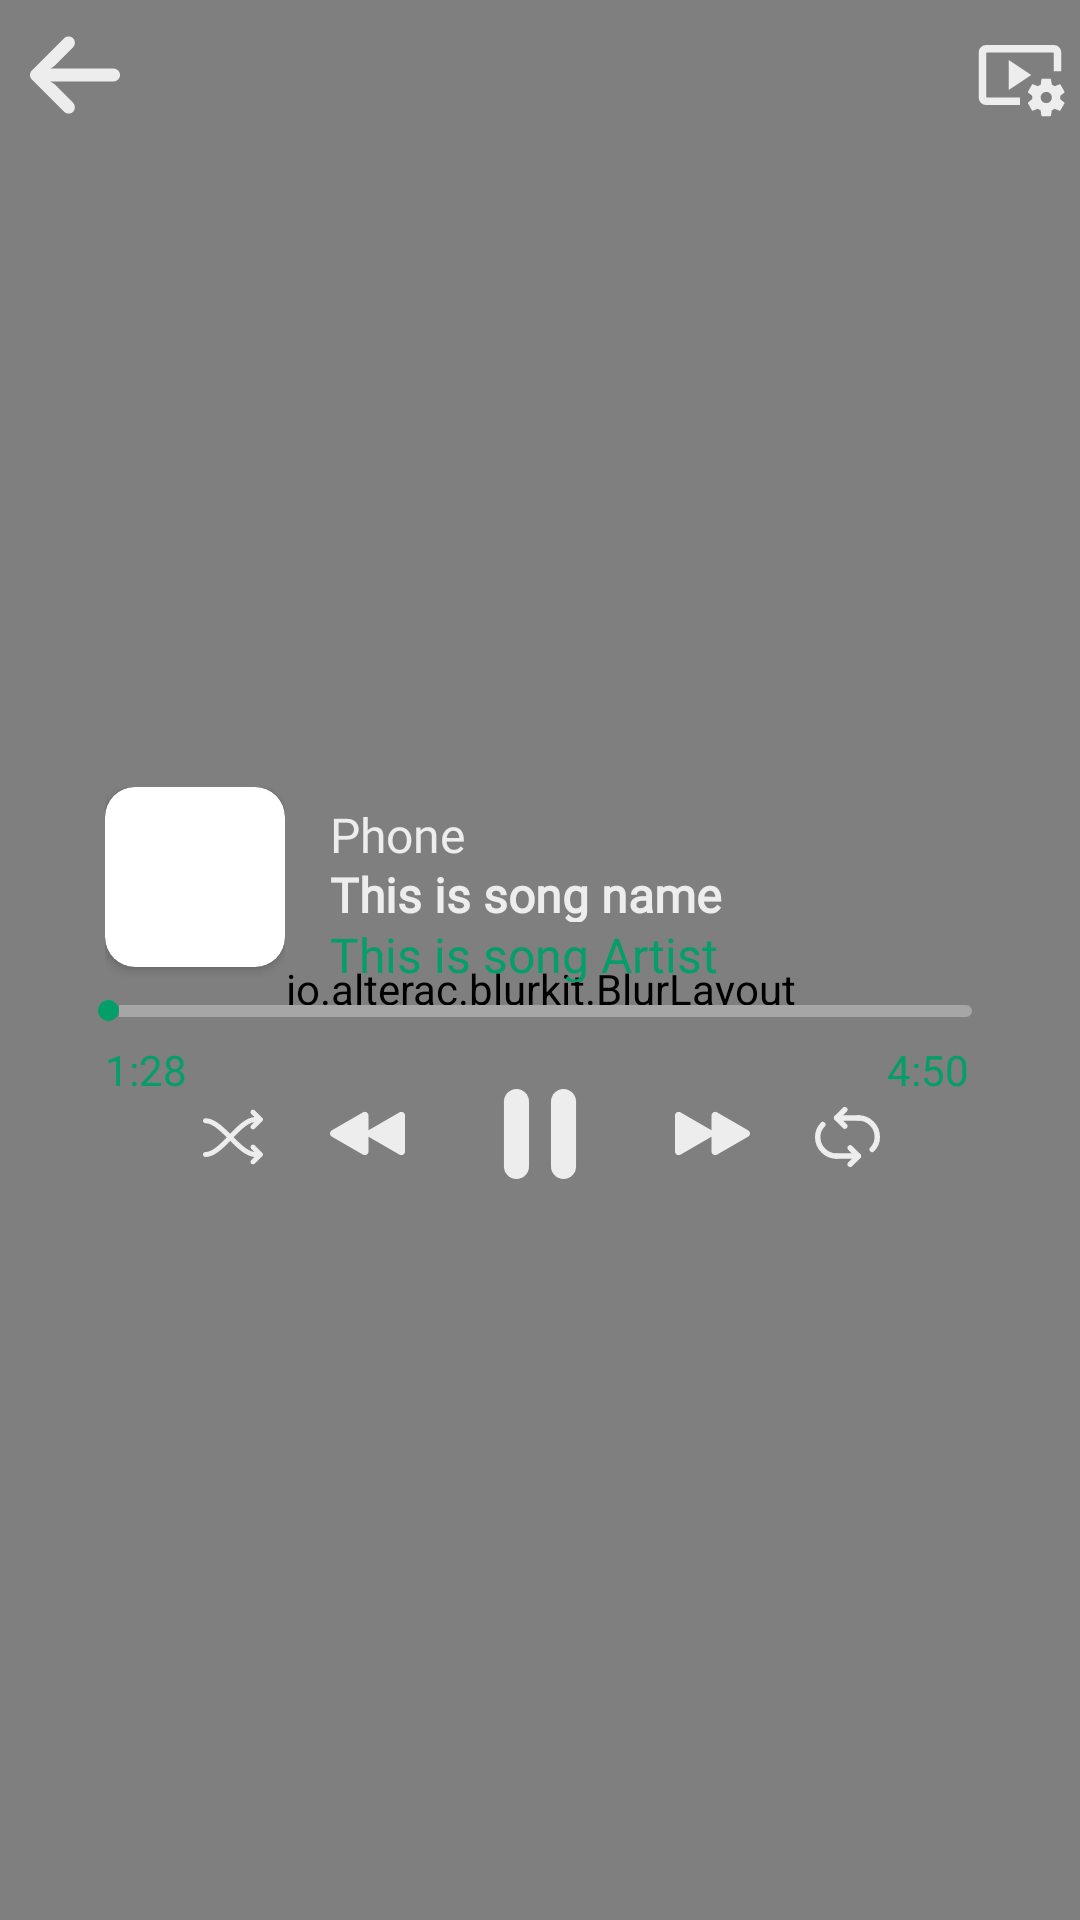

Screen size 1080w x 1920h. Icon name, then its box in pixels as region(x1, y1, x2, y2):
arrow: region(30, 36, 120, 114)
pause: region(504, 1089, 576, 1179)
video settings: region(978, 45, 1065, 117)
